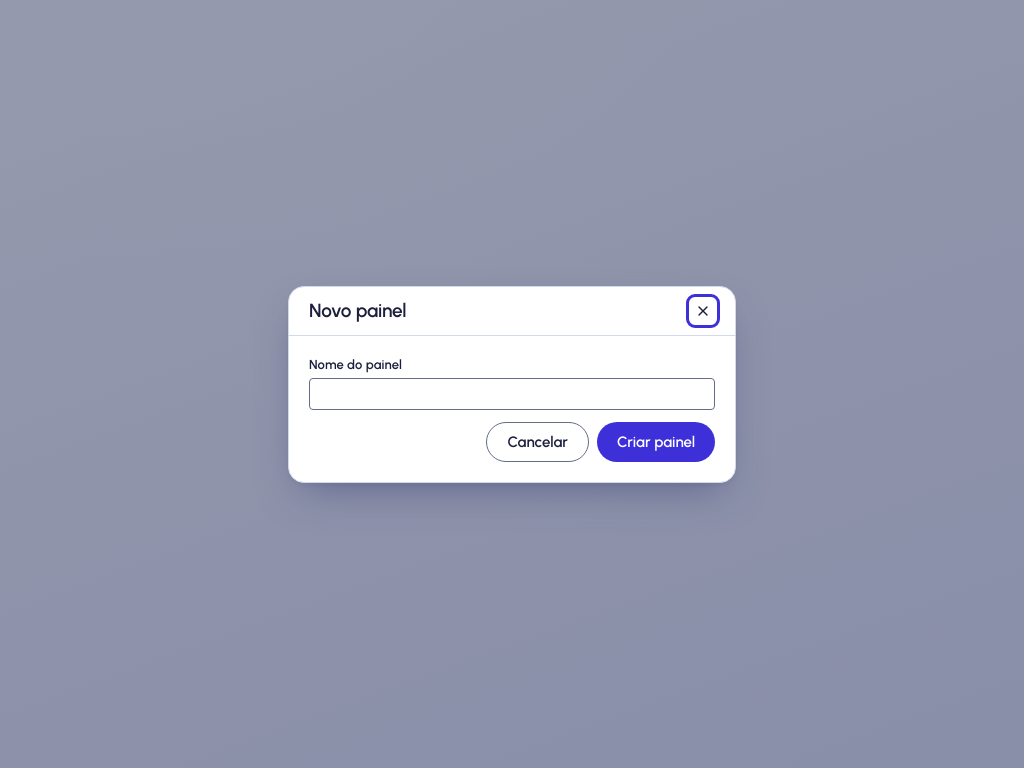
Scenario: BoardFormModal › erro do servidor aparece no formulário, sem fechar
Check: the dialog "Novo painel" is shown, box [288,286,736,482]
Type "Roadmap" into the field labelled "Nome do painel" at (512, 394), box [309,378,715,410]
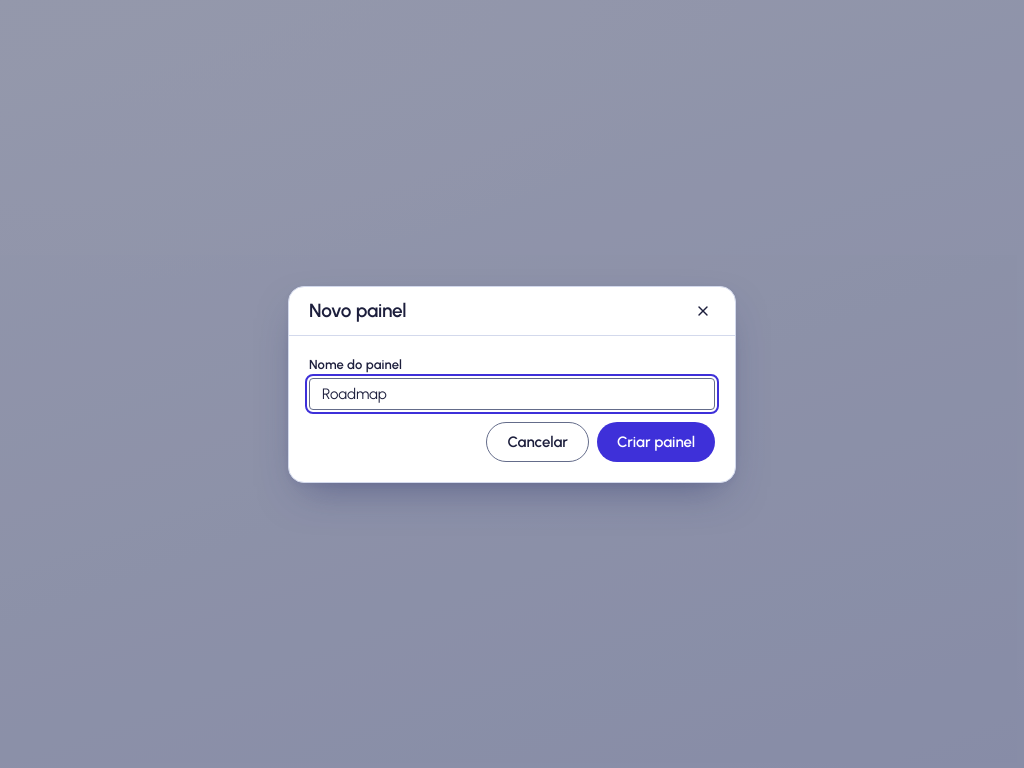
Click the button "Criar painel" at (656, 442), box [597,422,715,462]
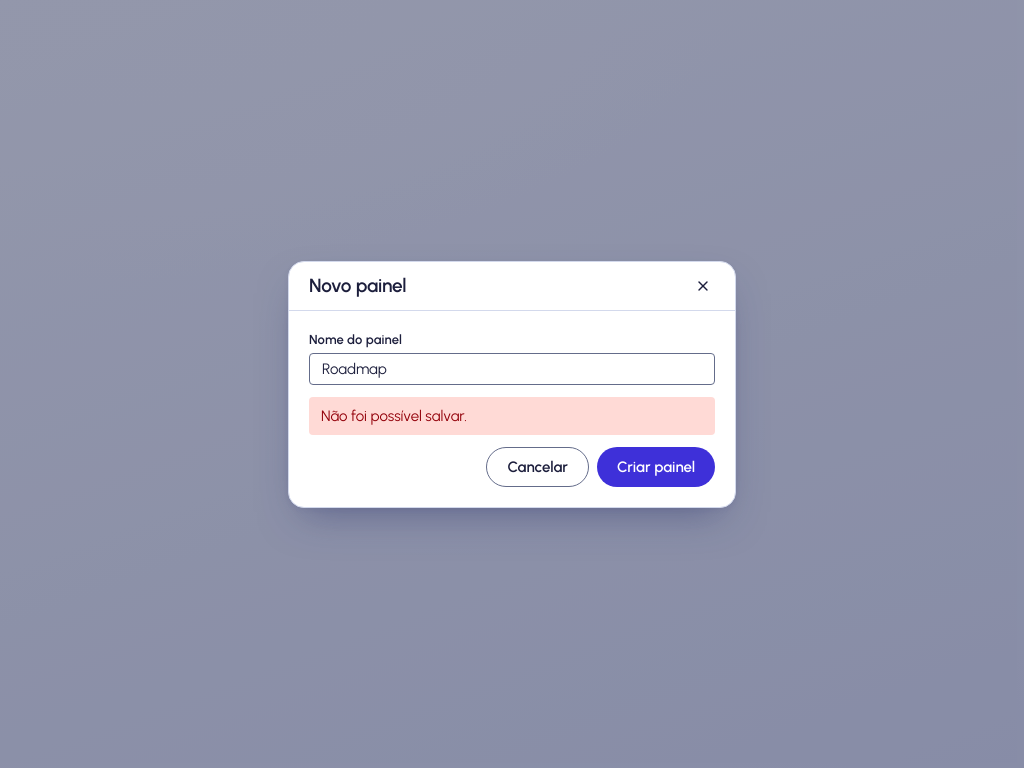
Check: the message reads "Não foi possível salvar.", box [321,406,467,424]
